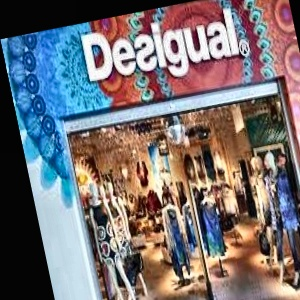desigual: (202, 0, 275, 12)
